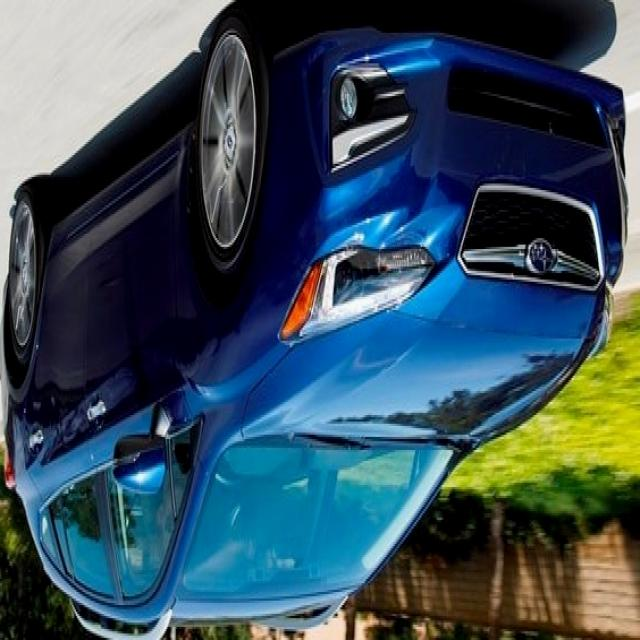blue: (0, 10, 629, 640)
